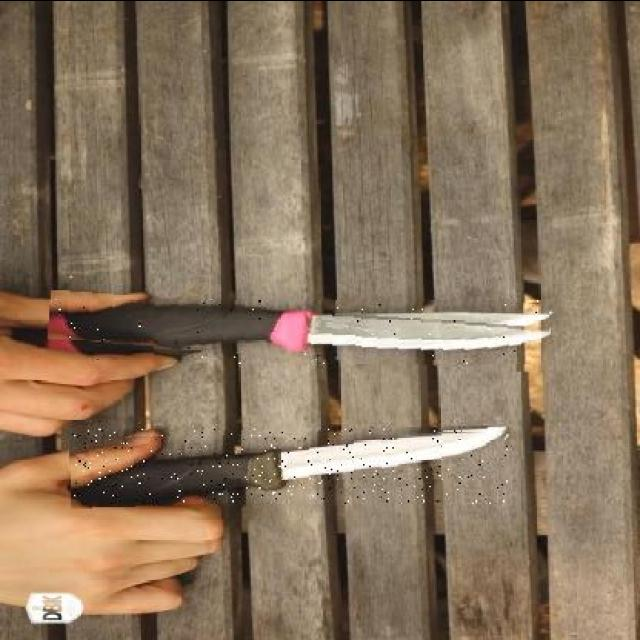Knife: (0, 418, 518, 625), (1, 277, 555, 441)
